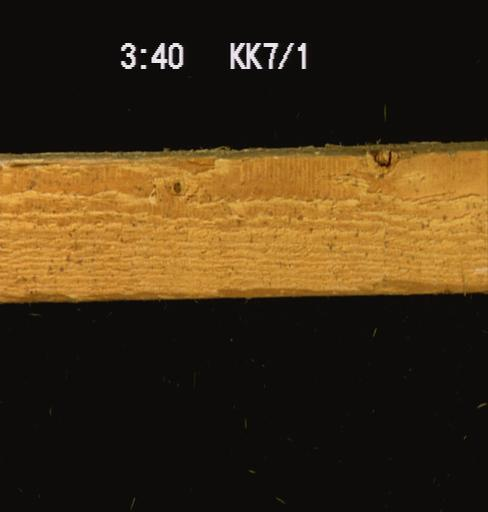dry_knot: (164, 174, 186, 202)
edge_knot: (358, 142, 408, 168)
wave: (219, 282, 487, 296)
